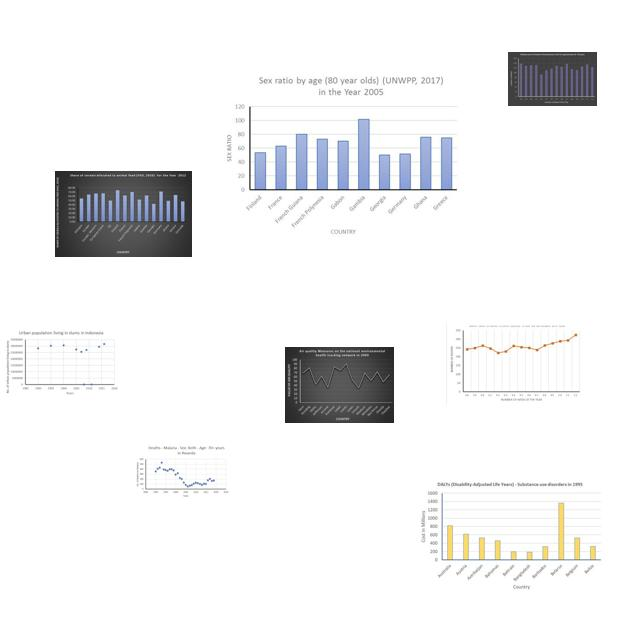Graph: (220, 72, 460, 237), (417, 479, 604, 593), (55, 171, 192, 257), (446, 322, 583, 405), (285, 347, 394, 423), (3, 329, 119, 397), (135, 445, 230, 498), (508, 52, 597, 106)
